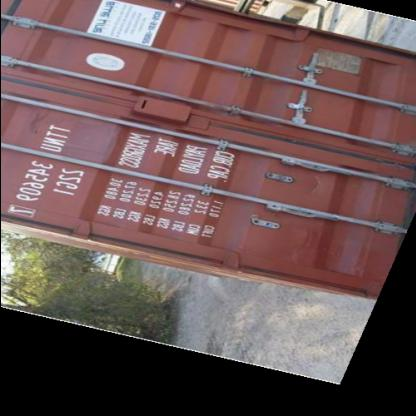Damage: (281, 220, 324, 268), (24, 99, 60, 145), (298, 168, 326, 198)
